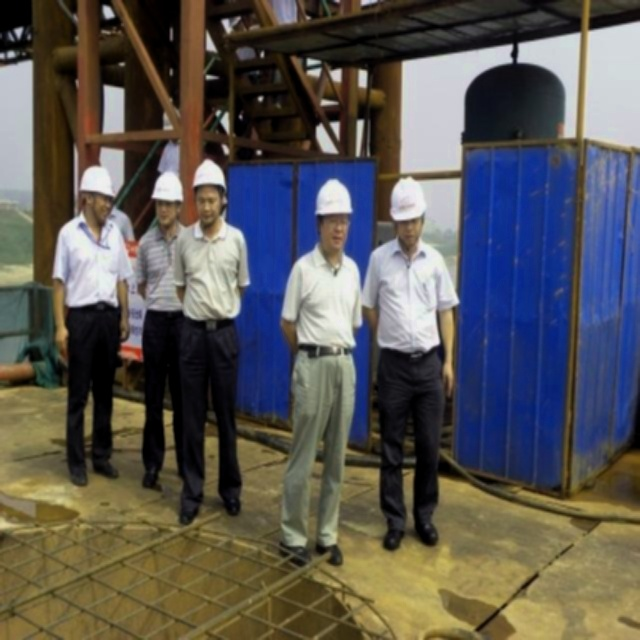Con_Casco: (315, 178, 352, 249)
Sin_Chaleco: (371, 238, 447, 353), (180, 222, 242, 322)
